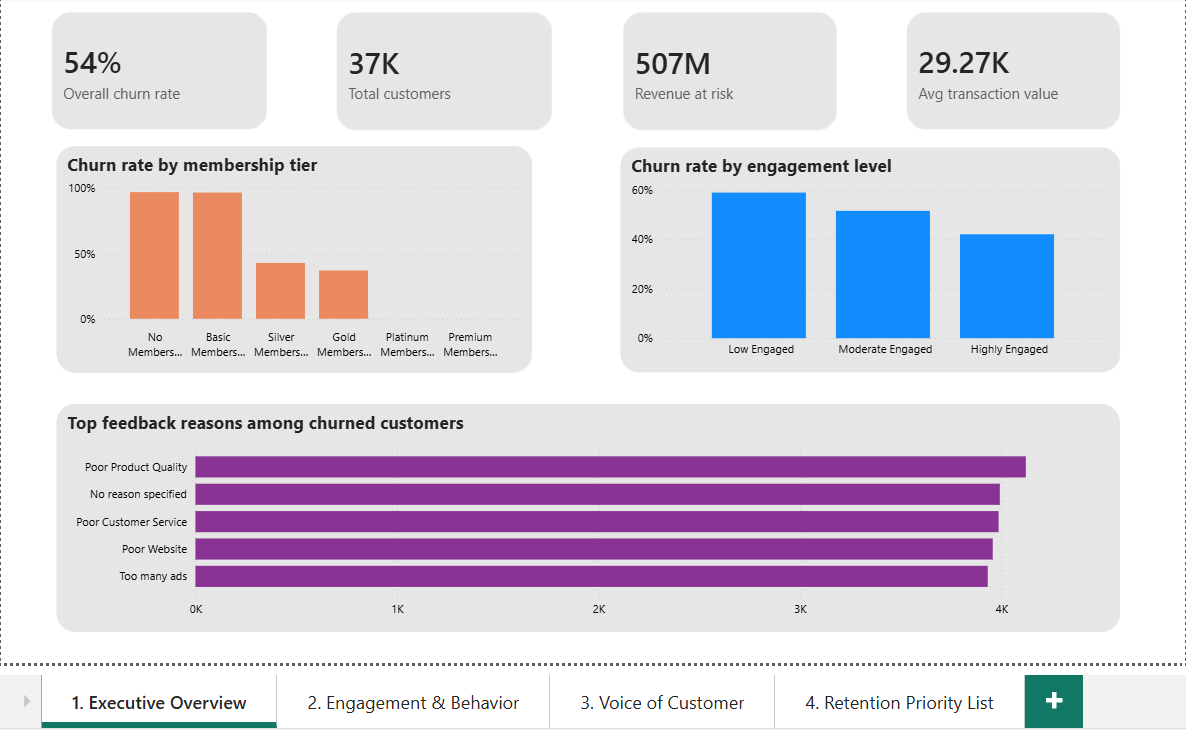

The page's visual inventory and layout, read from the dashboard file:
{"tool":"powerbi","page":{"name":"1. Executive Overview","canvas":[1280,720],"ordinal":0},"visuals":[{"type":"cardVisual","fields":{"Data":["churn_db customer_churn.Churn_rate %"]},"box":[37.2,0.2,267.2,161.9],"z":0},{"type":"cardVisual","fields":{"Data":["churn_db customer_churn.Total_Customer"]},"box":[345.2,0,267.7,162.6],"z":1000},{"type":"cardVisual","fields":{"Data":["churn_db customer_churn.Revenue at risk"]},"box":[653.6,0,265.8,162.6],"z":2000},{"type":"cardVisual","fields":{"Data":["churn_db customer_churn.Avg transaction value"]},"box":[960.2,0.2,265.6,161.9],"z":3000},{"type":"columnChart","title":"Churn rate by membership tier","fields":{"Y":["churn_db customer_churn.Churn_rate %"],"Category":["churn_db customer_churn.membership_category"]},"box":[59.9,161.9,513.3,244.5],"z":4000},{"type":"columnChart","title":"Churn rate by engagement level","fields":{"Y":["churn_db customer_churn.Churn_rate %"],"Category":["churn_db customer_churn.engagement_level"]},"box":[668.7,163.5,539.2,242.9],"z":5000},{"type":"barChart","title":"Top feedback reasons among churned customers","fields":{"Y":["churn_db customer_churn.Churn customer"],"Category":["churn_db customer_churn.feedback"]},"box":[59.9,440.4,1148,246.1],"z":6000}]}

Visuals, with their boxes on the page's 1280x720 design canvas (x1, y1, x2, y2). These are canvas units, not pixel positions in the 1186x730 screenshot, which may show the page scaled, cropped or inside an application window:
cardVisual - churn_db customer_churn.Churn_rate %: select_region(37, 0, 304, 162)
cardVisual - churn_db customer_churn.Total_Customer: select_region(345, 0, 613, 163)
cardVisual - churn_db customer_churn.Revenue at risk: select_region(654, 0, 919, 163)
cardVisual - churn_db customer_churn.Avg transaction value: select_region(960, 0, 1226, 162)
"Churn rate by membership tier" columnChart: select_region(60, 162, 573, 406)
"Churn rate by engagement level" columnChart: select_region(669, 164, 1208, 406)
"Top feedback reasons among churned customers" barChart: select_region(60, 440, 1208, 686)
